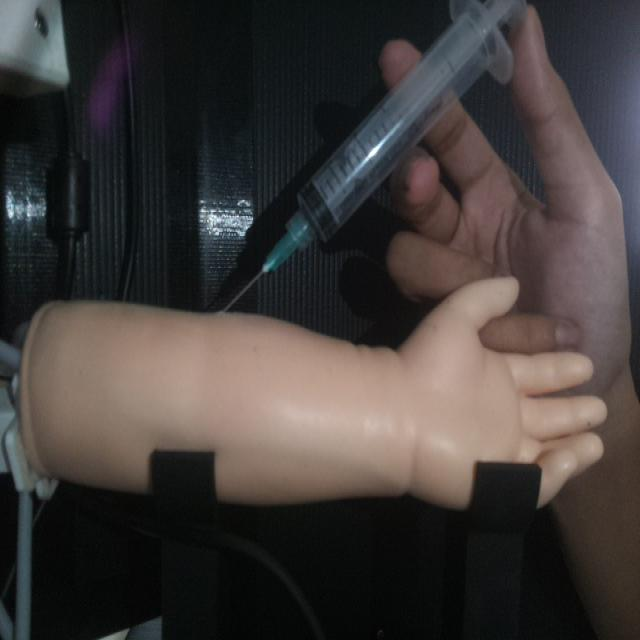Outside: (219, 0, 529, 315)
